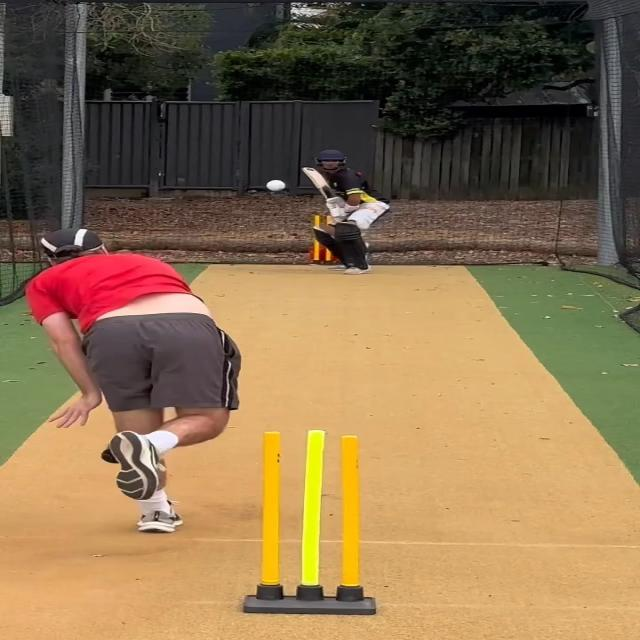ball: (264, 178, 290, 192)
stump: (246, 429, 376, 616)
